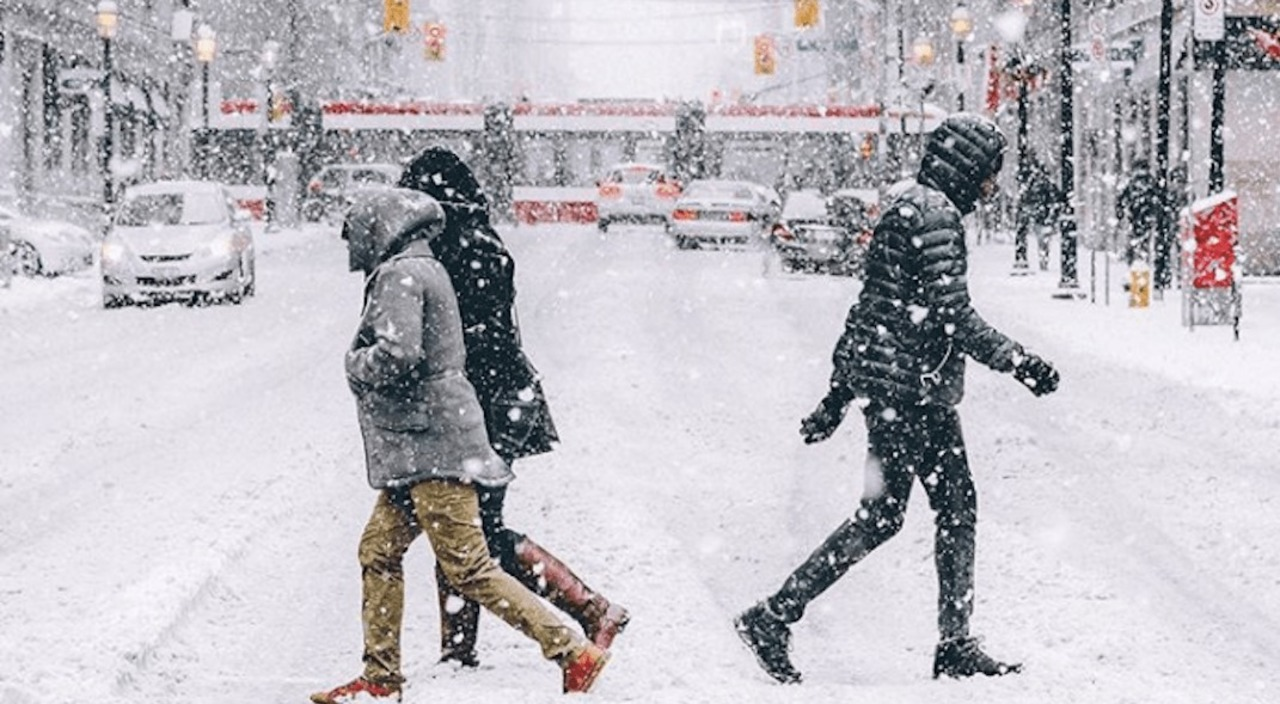car: (98, 181, 259, 310), (664, 180, 780, 251), (772, 190, 869, 273), (4, 201, 95, 283), (313, 156, 406, 227), (596, 163, 683, 229)
person: (732, 111, 1062, 682), (341, 185, 585, 695), (406, 146, 627, 673)
